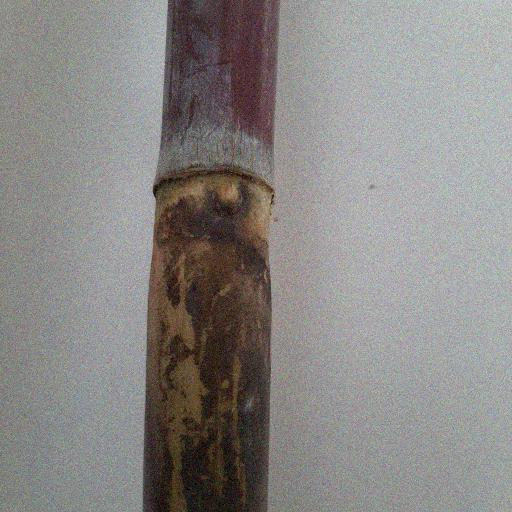Bud: (215, 178, 243, 211)
